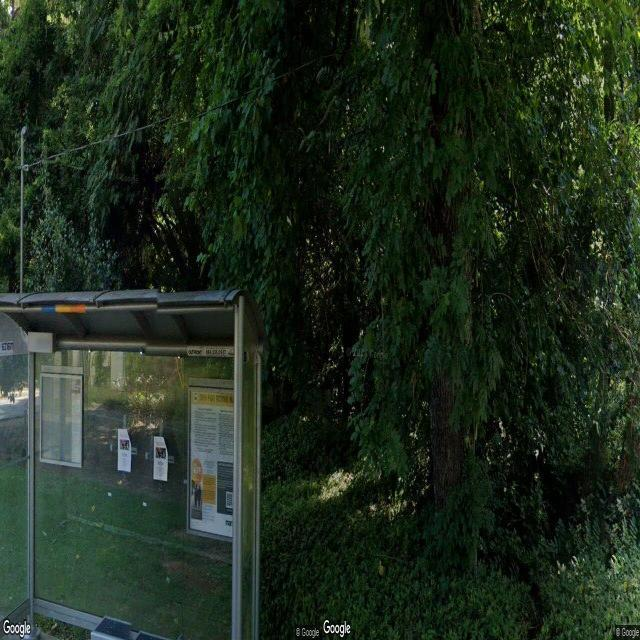seating: (88, 612, 180, 640)
shelter: (0, 289, 268, 640)
